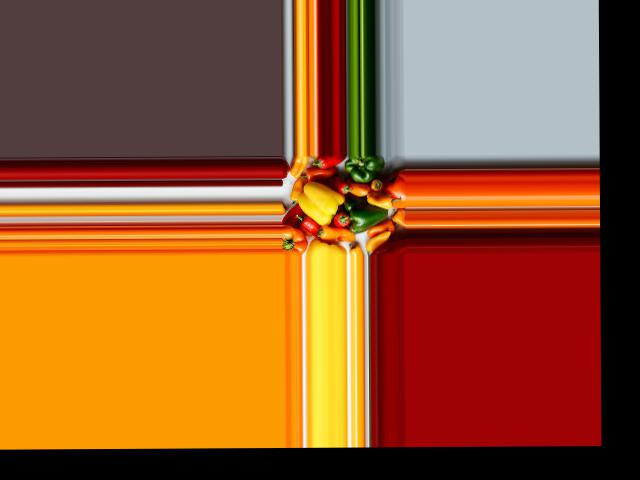bell_pepper: (310, 154, 342, 172)
